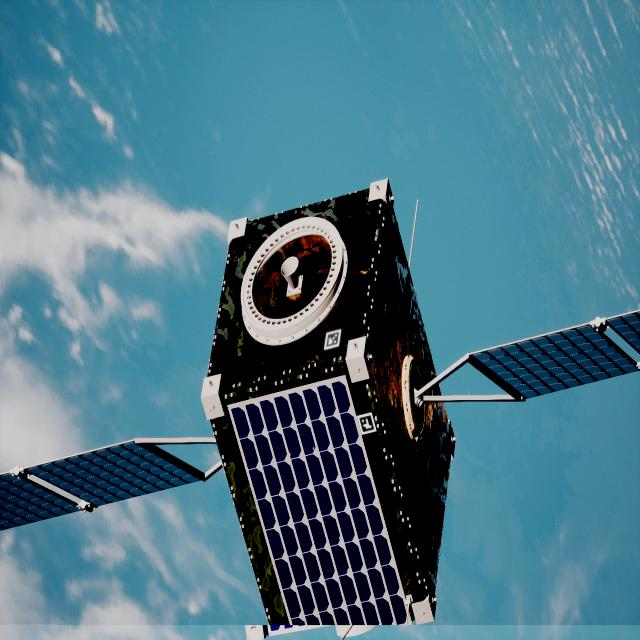satellite: (0, 181, 640, 636)
